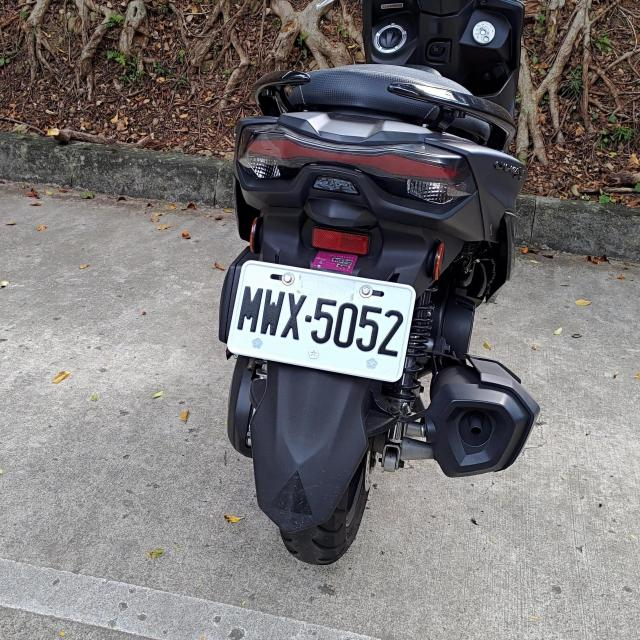W: (225, 260, 416, 382)
